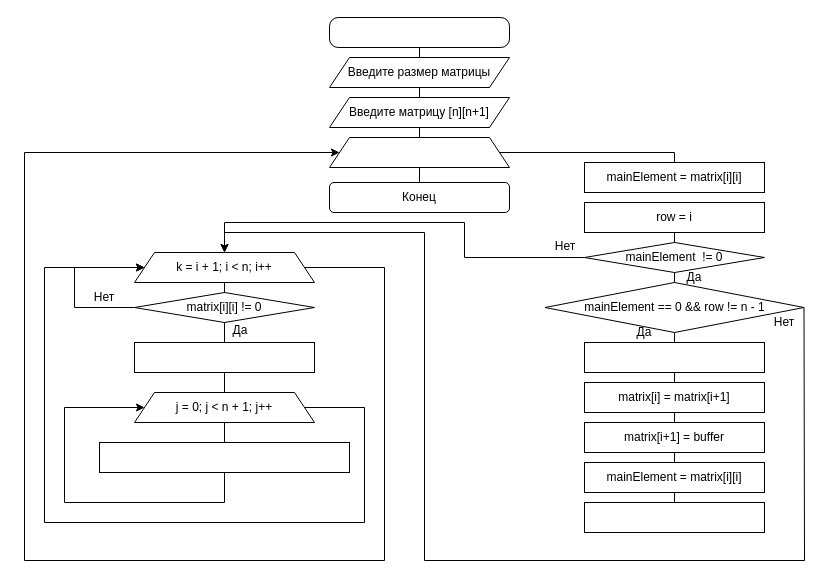
Some shapes in this 830 by 586 pixel diagram are drawn without their labels. Each missing label, with the centre of its shape:
buffer = matrix[i]: point (674, 357)
i = 0; i < n; i++: point (419, 152)
matrix[k][j] = matrix[k][j] - matrix[i][j] * multiplier: point (224, 457)
multiplier = matrix[k][i] / matrix[i][i]: point (224, 357)
row = row + 1: point (674, 517)
Начало: point (419, 32)
